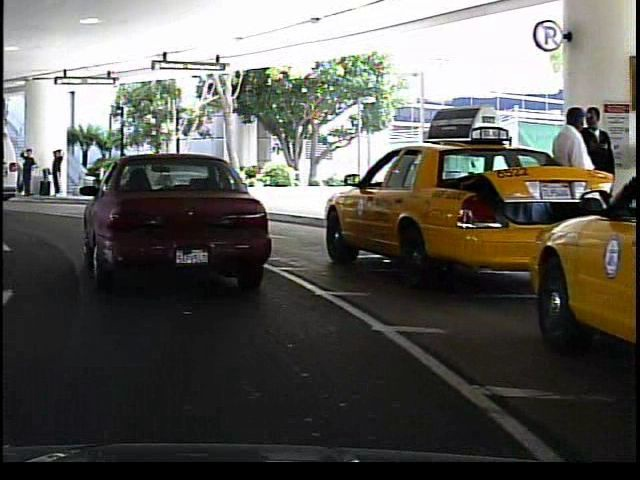person: (544, 104, 597, 263), (579, 101, 619, 253), (16, 142, 38, 202), (107, 147, 132, 194), (45, 143, 63, 200)
